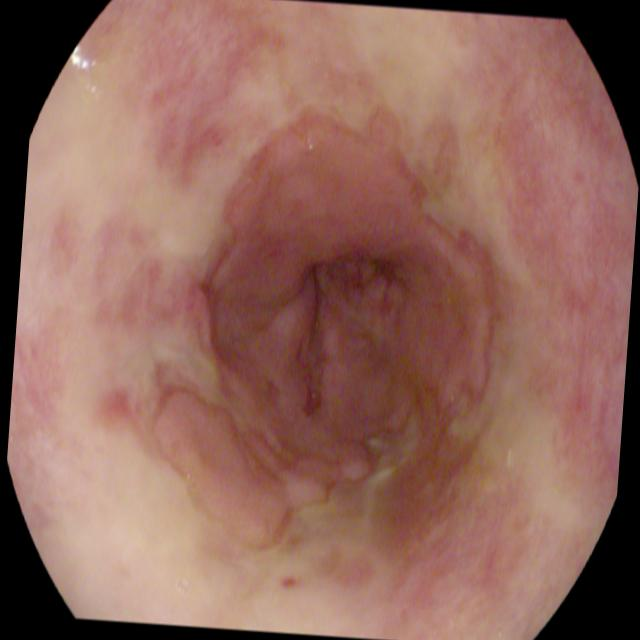esophagitis: (0, 0, 604, 640)
